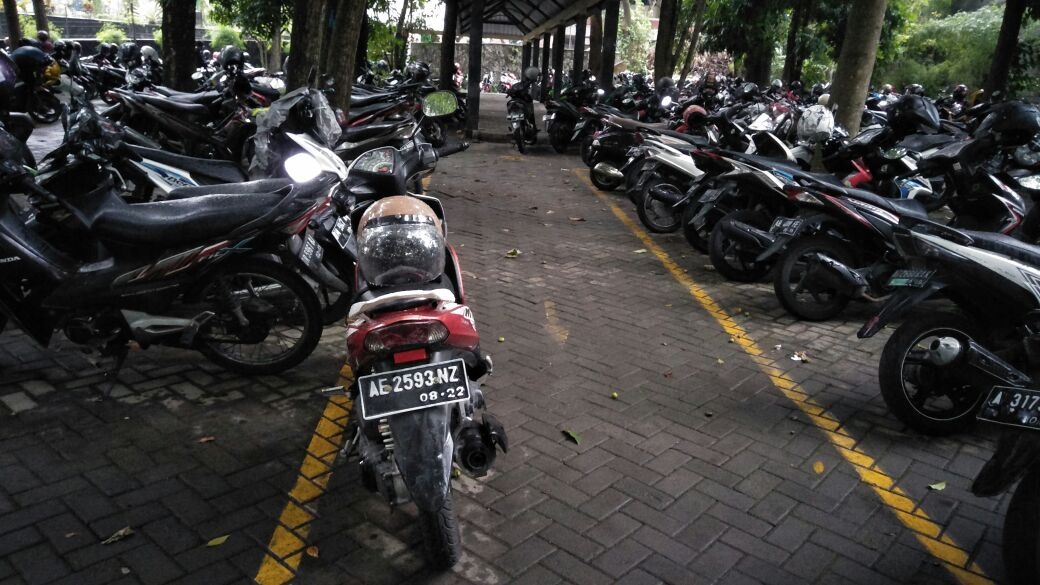plate: (357, 358, 472, 418)
